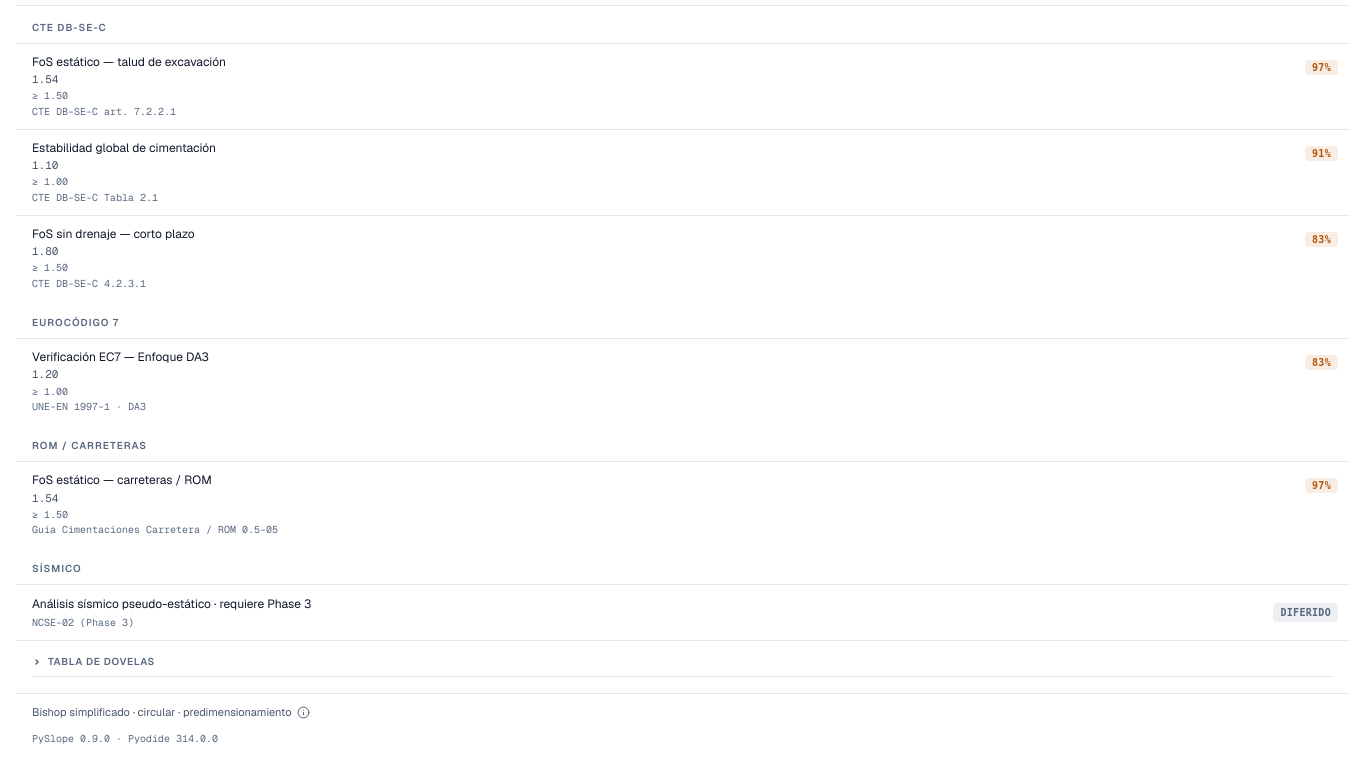
SlopeResults — tabla de checks agrupada + tabla de dovelas (T3.3) › la tabla de dovelas colapsa por defecto y expande con W/α/u
(page scrolled)
Check: the text "W (kN)" is not shown
Click the button "Tabla de dovelas" at point(102, 662), box [32, 645, 1334, 677]
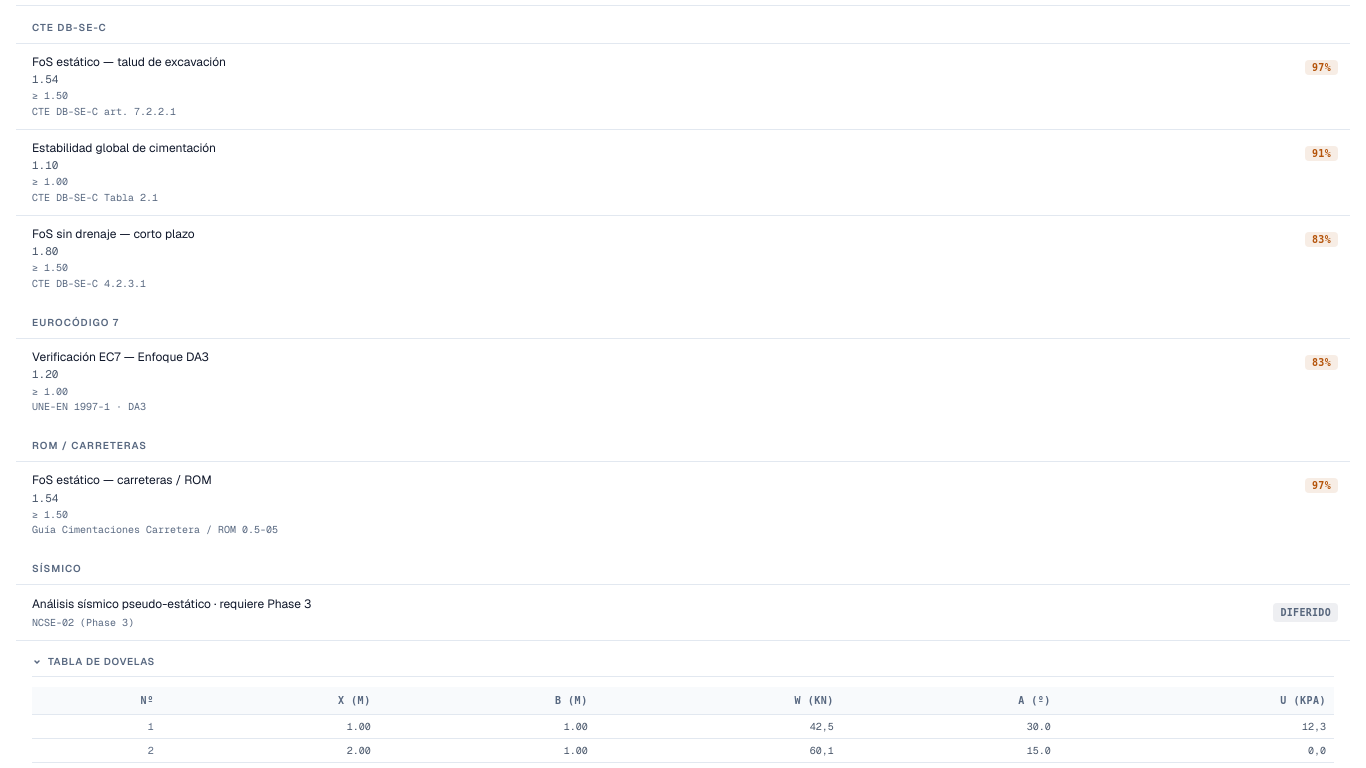
Check: the column heading "nº" is shown, box [32, 687, 162, 715]
Check: the column heading "x (m)" is shown, box [162, 687, 379, 715]
Check: the column heading "b (m)" is shown, box [379, 687, 596, 715]
